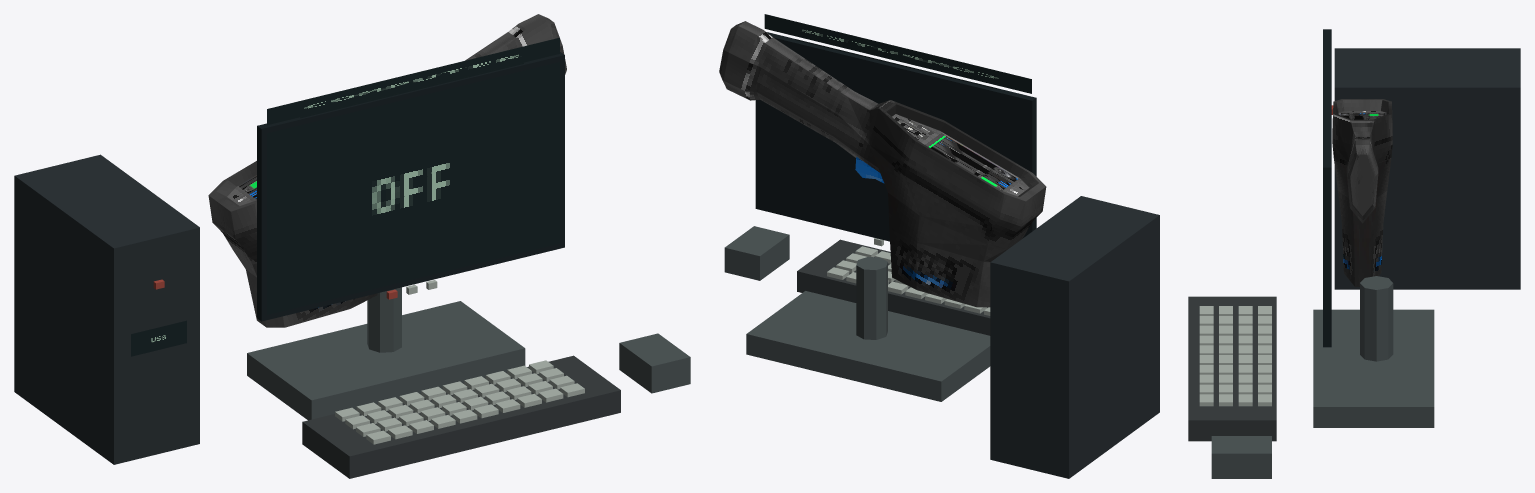
File: blender_computer_2.glb
3 renders of one model, left to right at view 1: azimuth 30°, elevation 25°; view 2: azimuth 150°, elevation 25°; view 3: azimuth 270°, elevation 25°, orthographic. The views are drawn at different scales.
Visible parts, largest first — view 1: blender_computer_2; view 2: blender_computer_2; view 3: blender_computer_2.
Boxes of the visible parts, <box> form: blender_computer_2: <box>14,14,690,478</box>; blender_computer_2: <box>719,14,1159,478</box>; blender_computer_2: <box>1188,29,1520,478</box>.
Size of the model in its own units: 0.5925 by 0.365 by 0.3575.
1 material, 1 textured.
